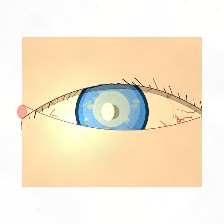corneal_ulcer: (81, 85, 141, 133)
